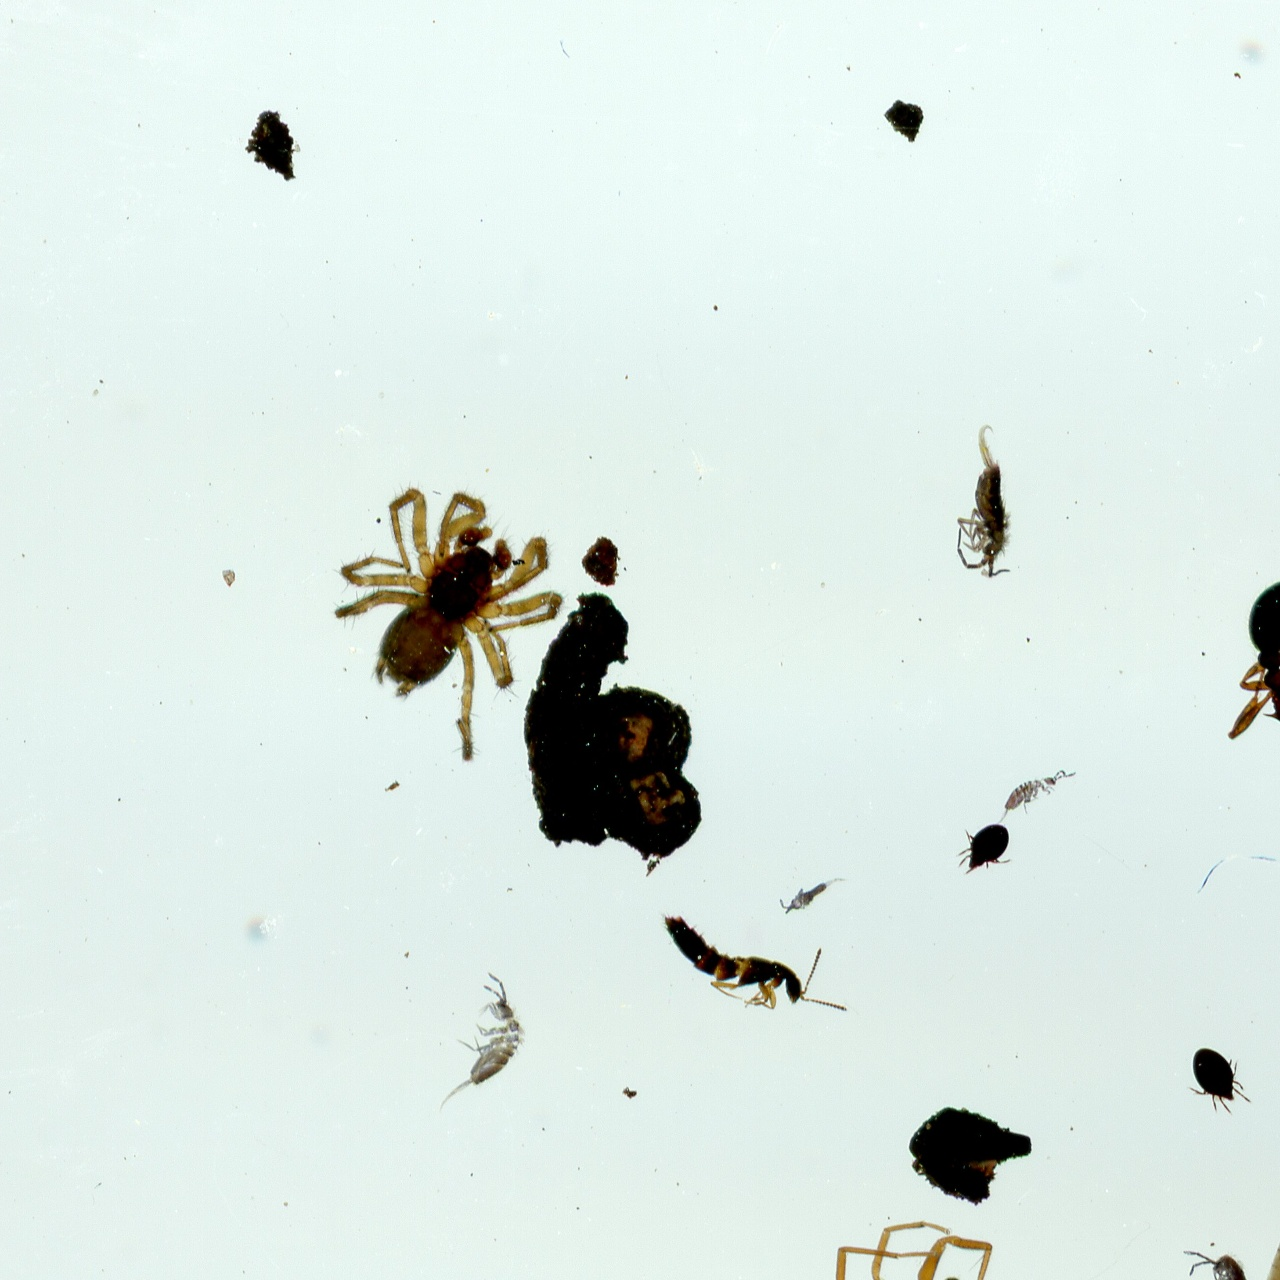arthropod: (320, 478, 567, 769), (647, 899, 870, 1035), (431, 960, 543, 1130), (823, 1219, 1037, 1280), (1224, 558, 1280, 787), (948, 417, 1018, 585), (1169, 1032, 1264, 1133), (949, 811, 1026, 889), (995, 762, 1078, 826), (773, 872, 851, 917), (1179, 1244, 1259, 1280)
